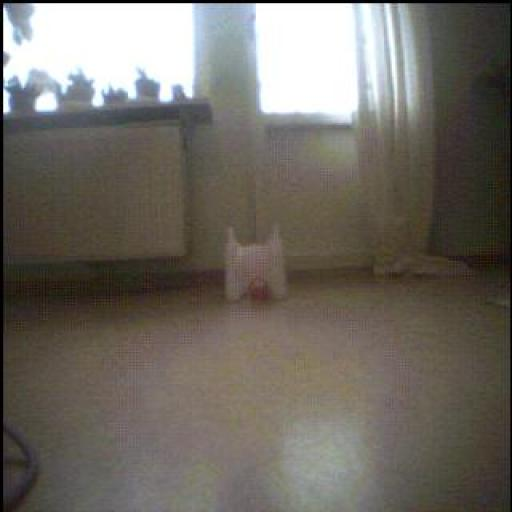Basket: (249, 279, 271, 302)
